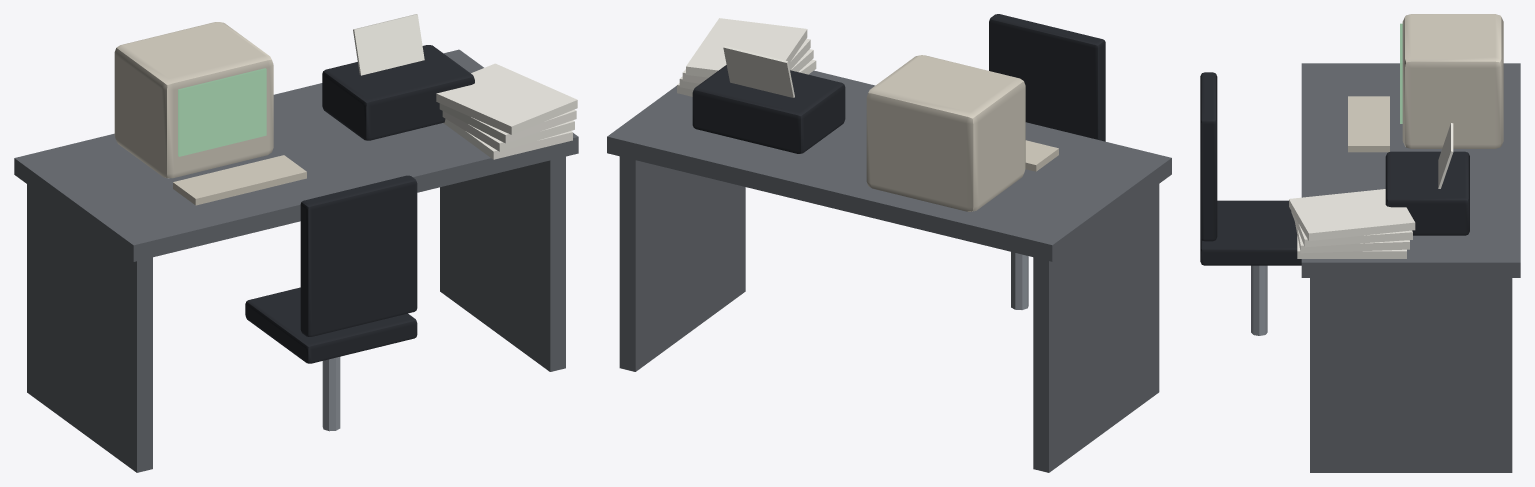
File: newsroom-desk.glb
3 renders of one model, left to right at view 1: azimuth 30°, elevation 25°; view 2: azimuth 150°, elevation 25°; view 3: azimuth 270°, elevation 25°, orthographic. The views are drawn at different scales.
Visible parts, largest first — view 1: part-desk-grey, part-chair, part-crt, part-paper, part-typewriter, part-crt-screen, part-keyboard, part-steel; view 2: part-desk-grey, part-crt, part-chair, part-typewriter, part-paper, part-steel, part-keyboard; view 3: part-desk-grey, part-crt, part-chair, part-paper, part-typewriter, part-keyboard, part-steel.
Boxes of the visible parts, x1=… form: part-desk-grey: x1=14, y1=49, x2=578, y2=472; part-chair: x1=245, y1=175, x2=417, y2=363; part-crt: x1=114, y1=22, x2=273, y2=178; part-paper: x1=353, y1=14, x2=577, y2=159; part-typewriter: x1=322, y1=45, x2=474, y2=140; part-crt-screen: x1=178, y1=68, x2=266, y2=156; part-keyboard: x1=173, y1=155, x2=306, y2=205; part-steel: x1=322, y1=357, x2=340, y2=431; part-desk-grey: x1=607, y1=70, x2=1171, y2=472; part-crt: x1=866, y1=55, x2=1025, y2=211; part-chair: x1=989, y1=14, x2=1105, y2=141; part-typewriter: x1=692, y1=65, x2=845, y2=153; part-paper: x1=677, y1=18, x2=816, y2=97; part-steel: x1=1011, y1=252, x2=1028, y2=309; part-keyboard: x1=1025, y1=140, x2=1058, y2=171; part-desk-grey: x1=1301, y1=63, x2=1520, y2=472; part-crt: x1=1402, y1=14, x2=1503, y2=148; part-chair: x1=1200, y1=72, x2=1301, y2=265; part-paper: x1=1289, y1=123, x2=1453, y2=258; part-typewriter: x1=1385, y1=151, x2=1469, y2=235; part-keyboard: x1=1348, y1=96, x2=1389, y2=152; part-steel: x1=1251, y1=265, x2=1267, y2=335.
Size of the model in its own units: 56.4 by 40 by 38.
